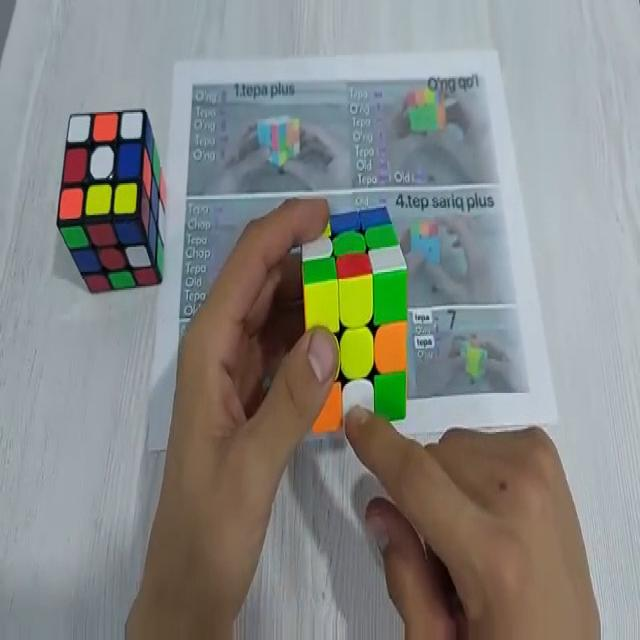Rub: (300, 202, 407, 430), (54, 105, 166, 286)
